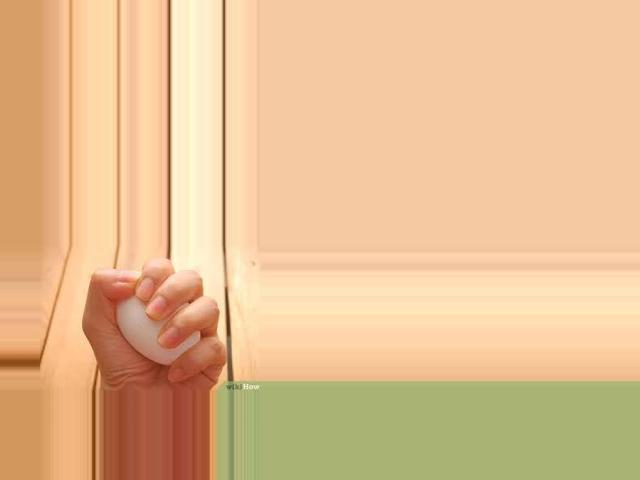egg: (116, 288, 202, 365)
